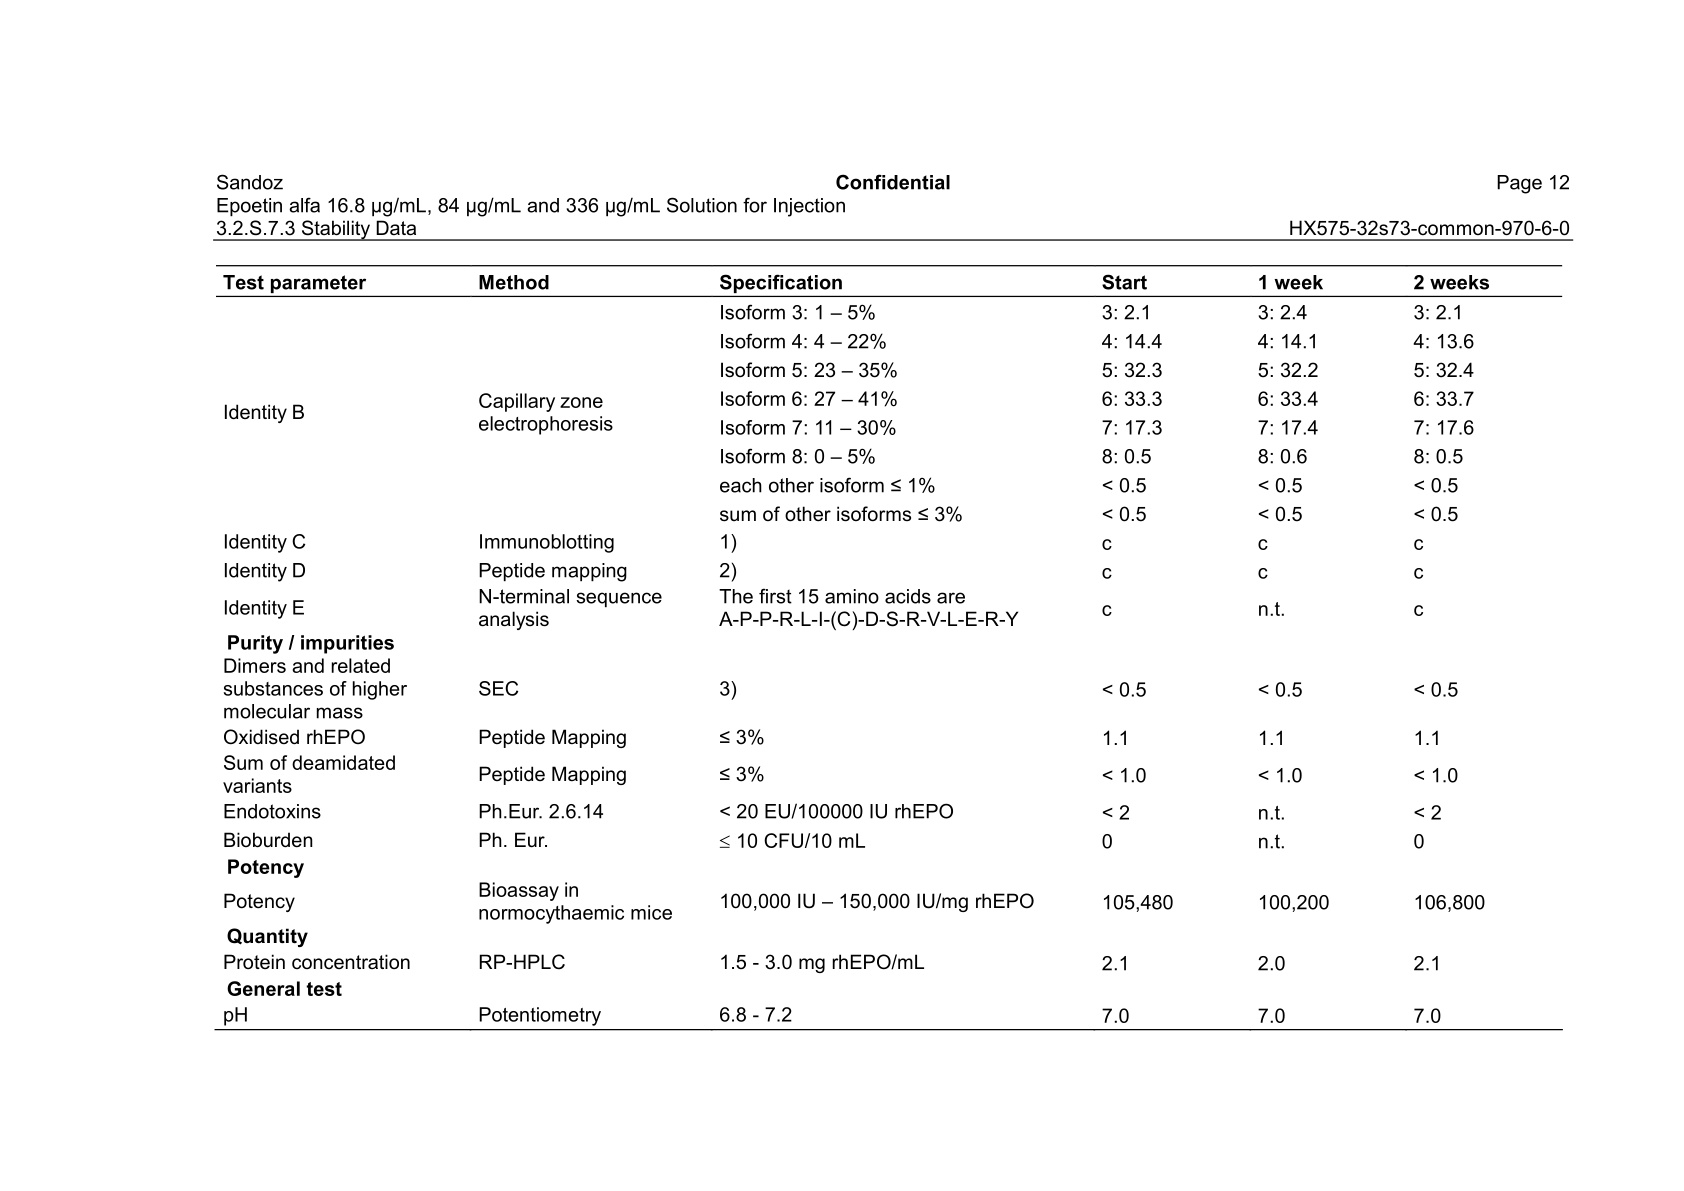partial_lined: (215, 264, 1564, 1032)
